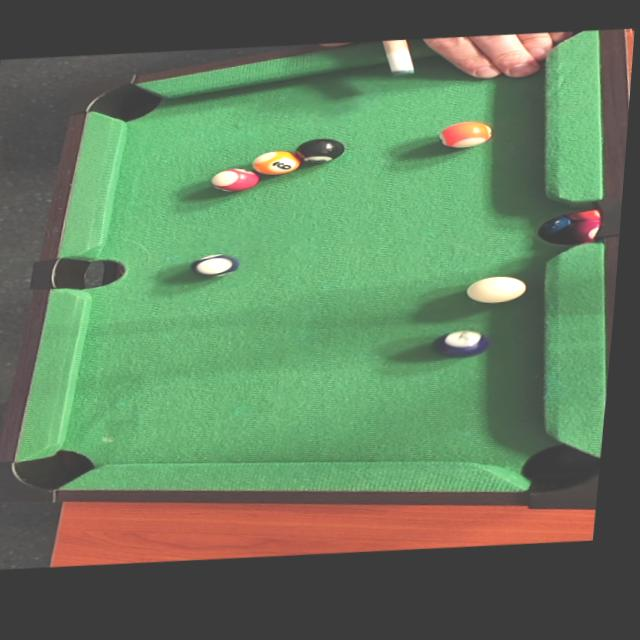cue ball: (459, 271, 531, 307)
other: (423, 325, 493, 362), (428, 116, 497, 152), (180, 248, 246, 284), (237, 146, 307, 179), (202, 161, 266, 195), (288, 134, 349, 167)
